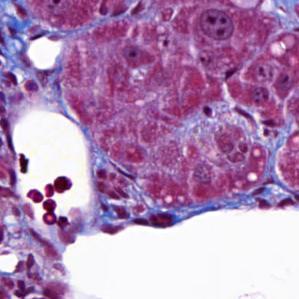inflammation: (231, 103, 283, 138), (94, 196, 152, 222)
